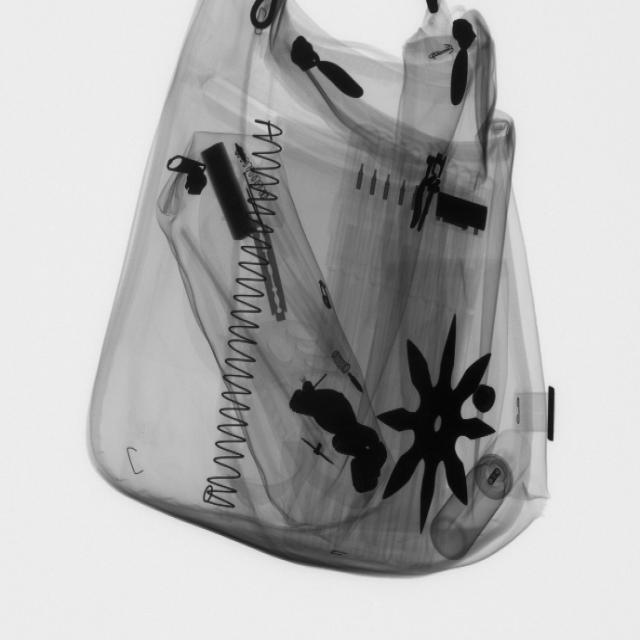BLADE: (252, 213, 289, 326)
SHURIKEN: (381, 312, 500, 534)
